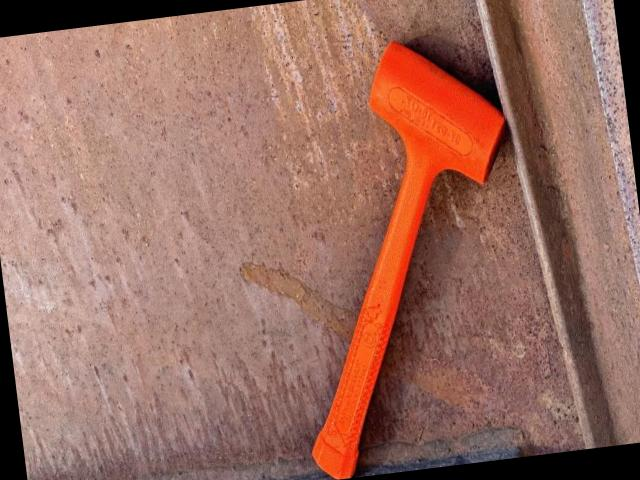hammer: (260, 28, 551, 480)
